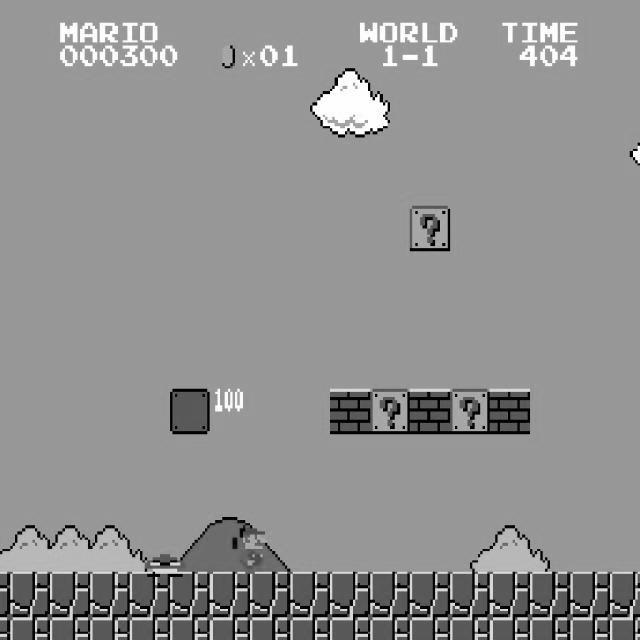1- brick_block: (330, 388, 370, 434), (410, 388, 450, 434), (490, 388, 530, 434)
11- little_mario: (230, 526, 272, 574)
13- mystery_block: (370, 388, 410, 434), (450, 388, 490, 434), (410, 206, 450, 251)
17- undestructible_block: (10, 572, 50, 618), (50, 572, 90, 618), (90, 572, 130, 618), (130, 572, 170, 618), (170, 572, 210, 618), (210, 572, 250, 618), (250, 572, 290, 618), (290, 572, 330, 618), (330, 572, 370, 618), (370, 572, 410, 618), (410, 572, 450, 618), (450, 572, 490, 618), (490, 572, 530, 618), (530, 572, 570, 618), (570, 572, 610, 618), (610, 572, 640, 618), (10, 617, 50, 640), (50, 617, 90, 640), (90, 617, 130, 640), (130, 617, 170, 640), (170, 617, 210, 640), (210, 617, 250, 640), (250, 617, 290, 640), (290, 617, 330, 640), (330, 617, 370, 640), (370, 617, 410, 640), (410, 617, 450, 640), (450, 617, 490, 640), (490, 617, 530, 640), (530, 617, 570, 640), (570, 617, 610, 640), (610, 617, 640, 640), (0, 571, 10, 617), (0, 617, 10, 639)
3- empty_block: (170, 388, 210, 434)
